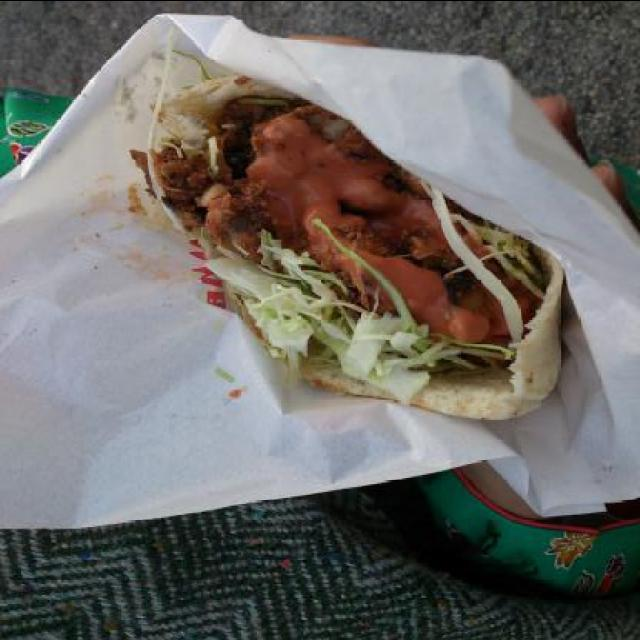Sandwich: (125, 73, 568, 425)
